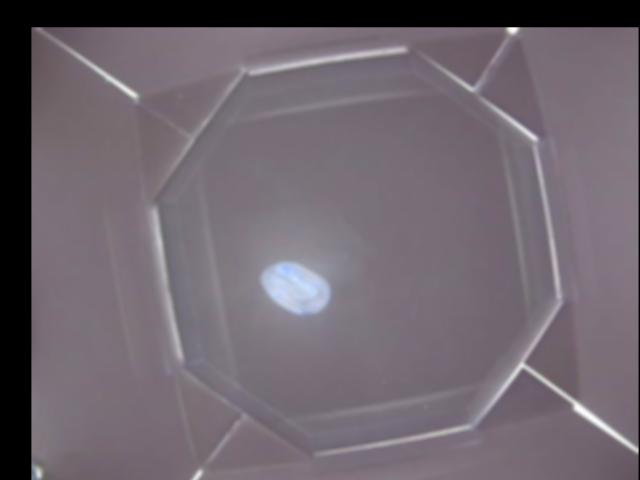Pebble: (259, 263, 331, 315)
